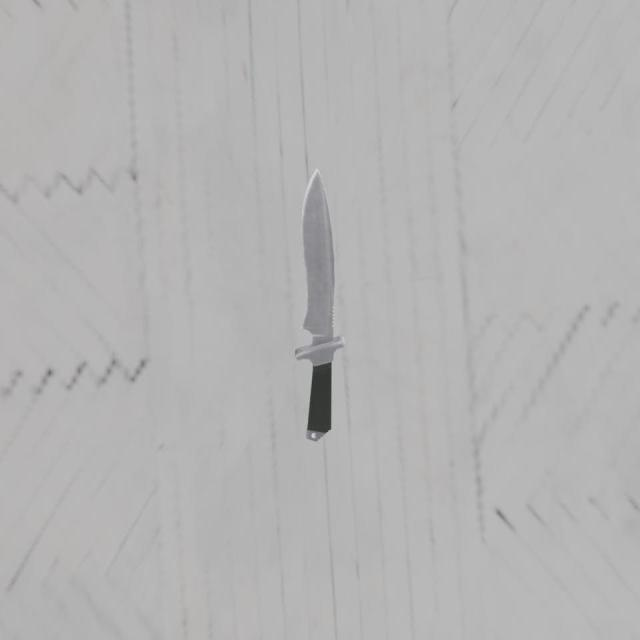knife: (305, 364, 332, 456)
